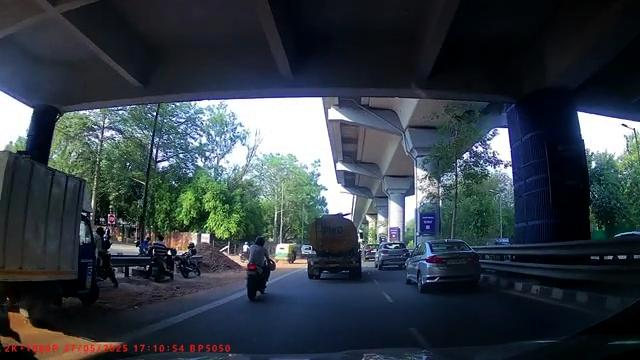motorcycle_with_helmet: (244, 235, 274, 301)
